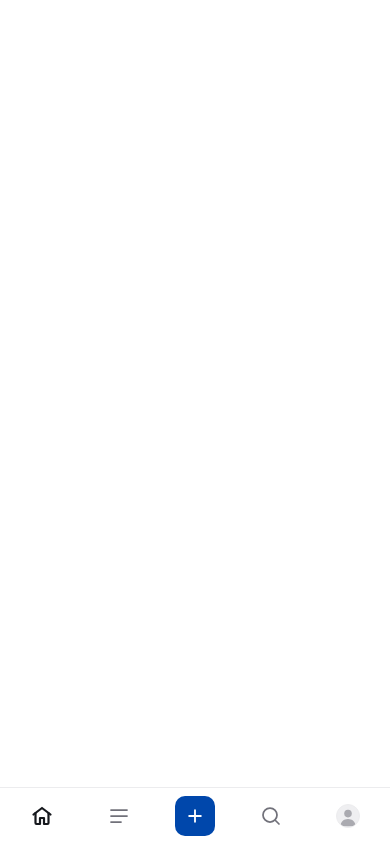
Test: Appearance submenu › drills into Appearance in the mobile TabBar sheet and switches theme
Later steps or results of the test are not shown.
What coordinates should you click on to do the following:
click the button named "You"
I would click on:
 (348, 816)
Its box is [310,796,386,836].
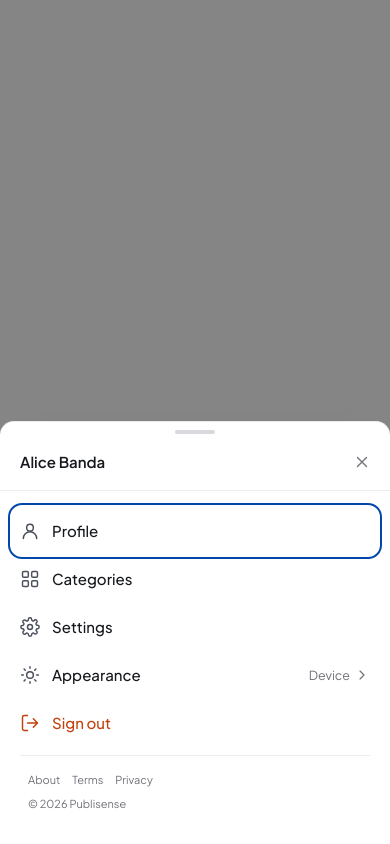
Check: the button "Appearance Device" is shown, box [12,651,378,699]
